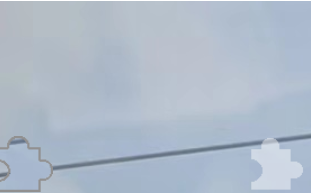target: (246, 135, 305, 192)
